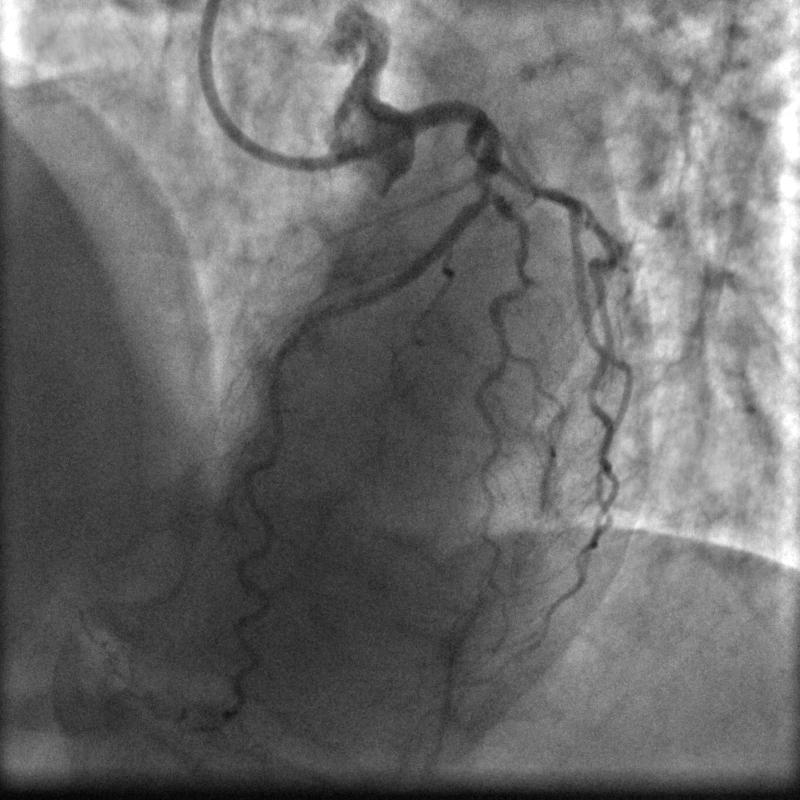Stenosis: (473, 176, 499, 202)
